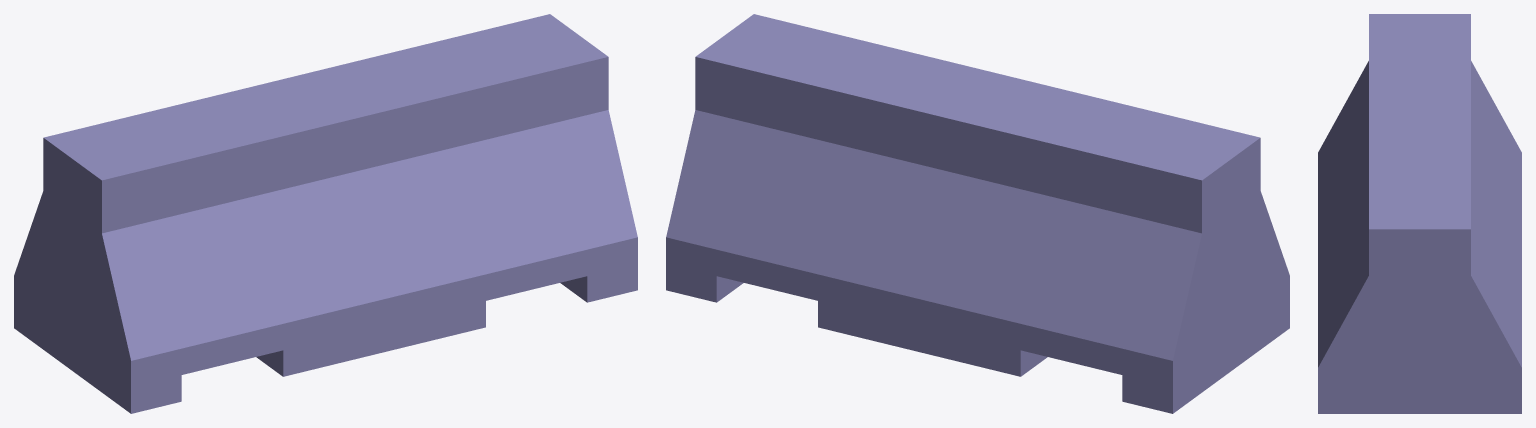
Rendered from Barrier.fbx.
3 views of the same model, side by side, from view 1: azimuth 30°, elevation 25°; view 2: azimuth 150°, elevation 25°; view 3: azimuth 270°, elevation 25° (orthographic). The views are drawn at different scales.
Parts seen in each view (by area): view 1: mergedBlocks; view 2: mergedBlocks; view 3: mergedBlocks.
Part boxes in pixels (left/top/right/bottom): mergedBlocks: left=14, top=14, right=637, bottom=413; mergedBlocks: left=666, top=14, right=1289, bottom=413; mergedBlocks: left=1318, top=14, right=1521, bottom=413.
Size of the model in its own units: 10 by 4 by 4.
